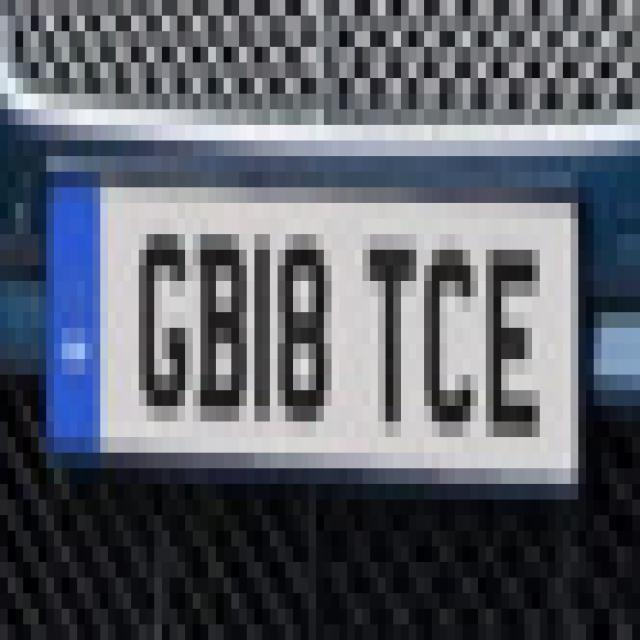1: (248, 208, 280, 456)
8: (280, 220, 335, 470)
B: (192, 207, 250, 426)
C: (421, 222, 484, 449)
E: (482, 223, 548, 442)
G: (133, 210, 191, 428)
T: (365, 228, 423, 455)
